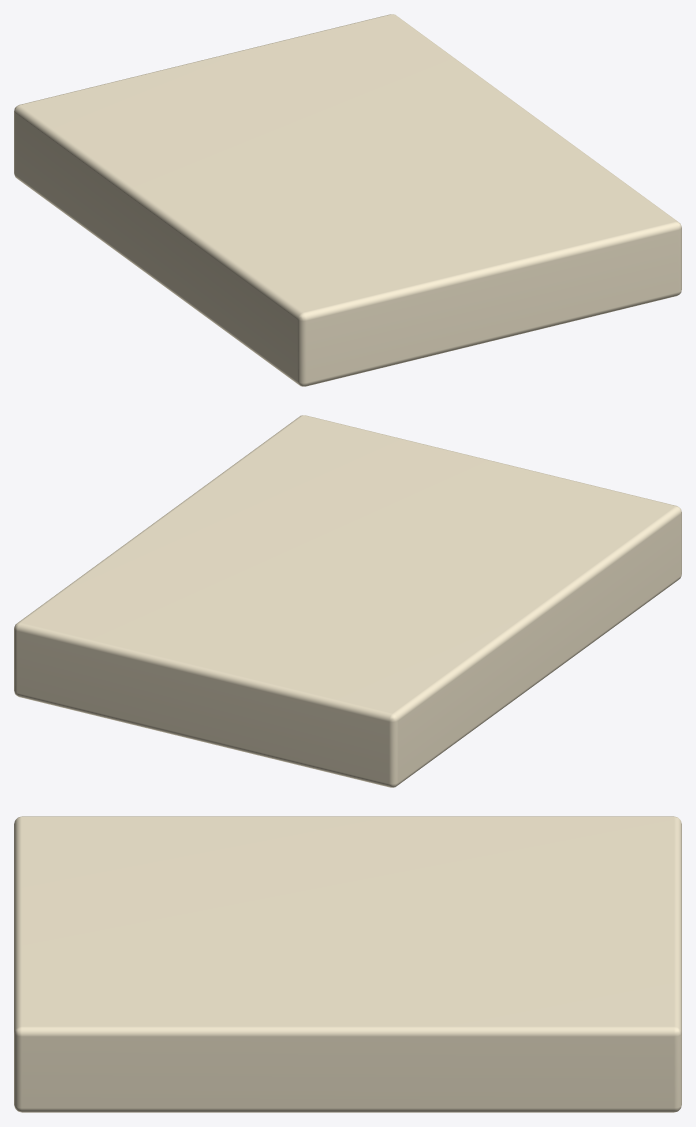
File: SM_EG_Poster_cream_face_eca7cf7934.fbx
The picture shows the model from 3 angles, top to bottom: view 1: azimuth 30°, elevation 25°; view 2: azimuth 150°, elevation 25°; view 3: azimuth 270°, elevation 25°; orthographic projection. The views are drawn at different scales.
Parts seen in each view (by area): view 1: SM_EG_Poster_cream_face_eca7cf7934; view 2: SM_EG_Poster_cream_face_eca7cf7934; view 3: SM_EG_Poster_cream_face_eca7cf7934.
Part boxes in pixels (x1,y1,x2,y2): SM_EG_Poster_cream_face_eca7cf7934: (14,14,681,386); SM_EG_Poster_cream_face_eca7cf7934: (14,415,681,787); SM_EG_Poster_cream_face_eca7cf7934: (14,816,681,1112).
Bounding box in the file's own units: 260 × 340 × 48.
